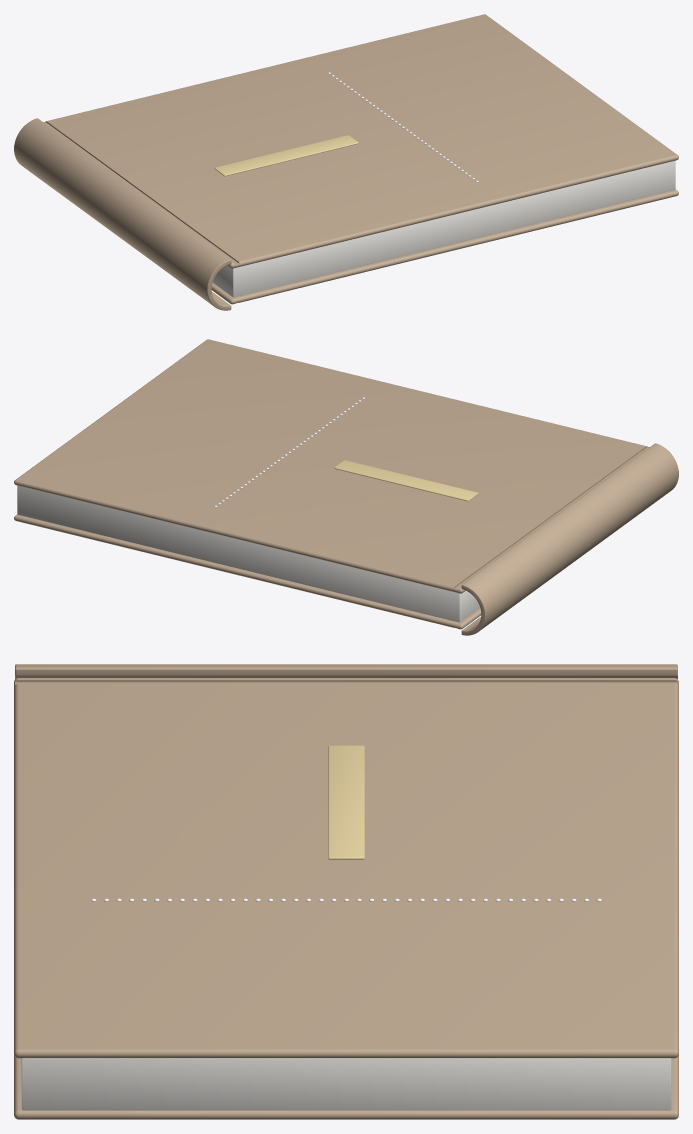
Rendered from swarovski-line--landscape.glb.
3 renders of one model, top to bottom at view 1: azimuth 30°, elevation 25°; view 2: azimuth 150°, elevation 25°; view 3: azimuth 270°, elevation 25°, orthographic. The views are drawn at different scales.
Parts seen in each view (by area): view 1: CoverFront, Pages, Spine, CoverBack, Plate; view 2: CoverFront, Pages, Spine, CoverBack, Plate; view 3: CoverFront, Pages, Spine, CoverBack, Plate, Crystal.
Part boxes in pixels (x1=…): CoverFront: x1=43, y1=14, x2=678, y2=268; Pages: x1=213, y1=160, x2=675, y2=297; Spine: x1=14, y1=118, x2=231, y2=310; CoverBack: x1=211, y1=189, x2=678, y2=304; Plate: x1=214, y1=135, x2=358, y2=176; CoverFront: x1=14, y1=339, x2=649, y2=593; Pages: x1=17, y1=485, x2=479, y2=622; Spine: x1=461, y1=443, x2=678, y2=635; CoverBack: x1=14, y1=514, x2=481, y2=629; Plate: x1=334, y1=460, x2=478, y2=501; CoverFront: x1=14, y1=678, x2=678, y2=1058; Pages: x1=21, y1=1058, x2=671, y2=1110; Spine: x1=15, y1=664, x2=677, y2=679; CoverBack: x1=14, y1=1055, x2=678, y2=1119; Plate: x1=328, y1=745, x2=364, y2=859; Crystal: x1=91, y1=898, x2=601, y2=901.
Size of the model in its own units: 0.4208 by 0.043 by 0.3.
